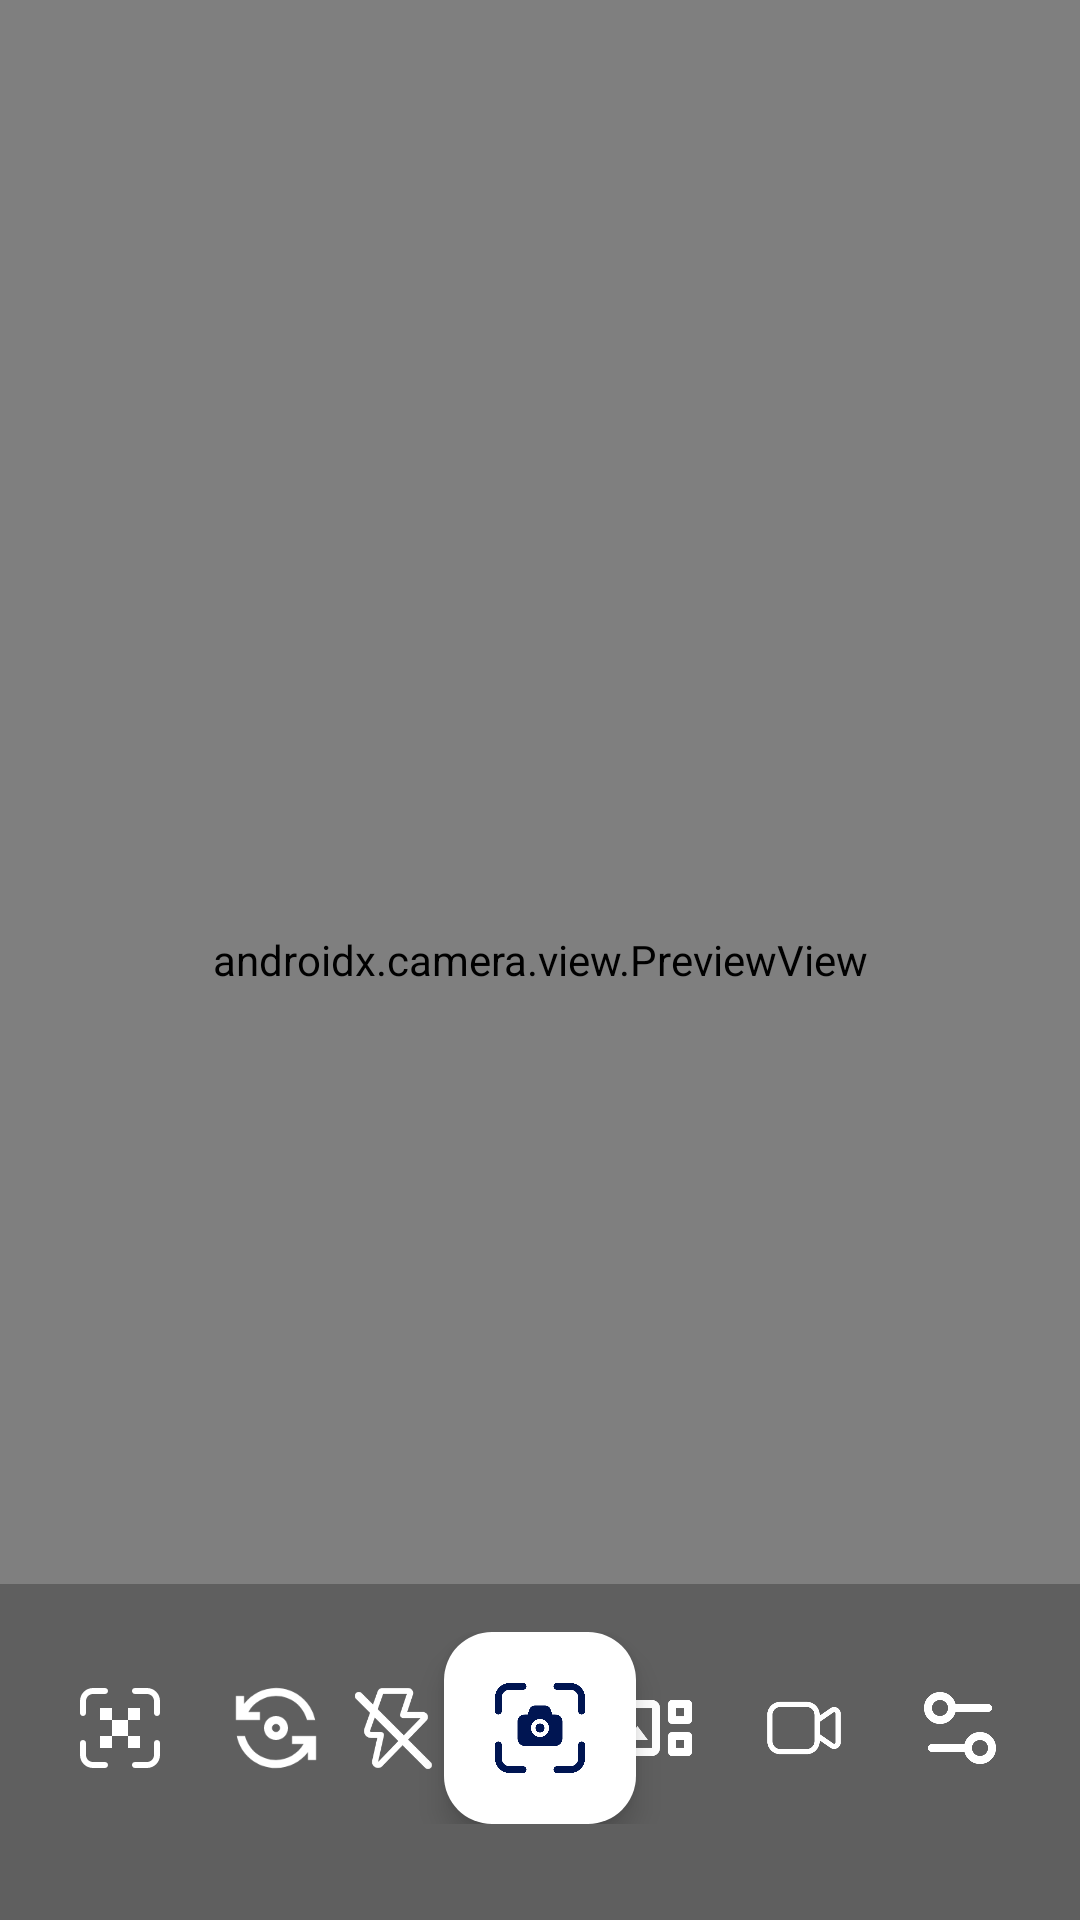

Point at icon controls on the screen. Image size 1080w x 1920h, points as [x,y].
Flash Mode: [411,1728]
Record: [804,1728]
Scan QR Code: [120,1728]
Settings: [960,1728]
Switch Camera: [276,1728]
